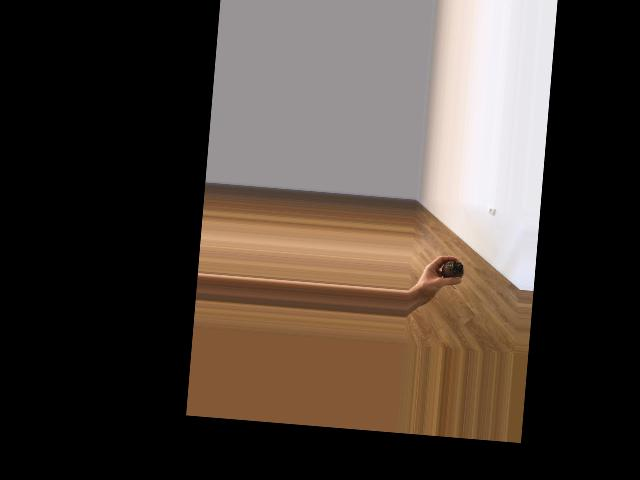beet: (440, 258, 465, 289)
